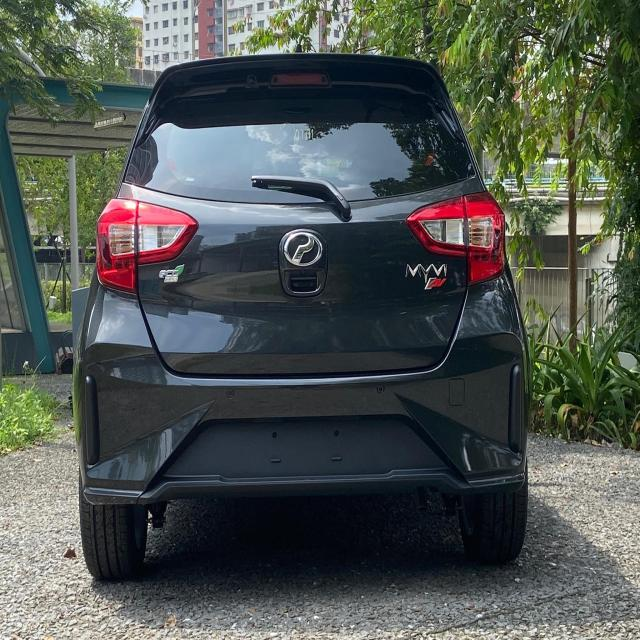PeroduaMyvi: (70, 52, 533, 581)
